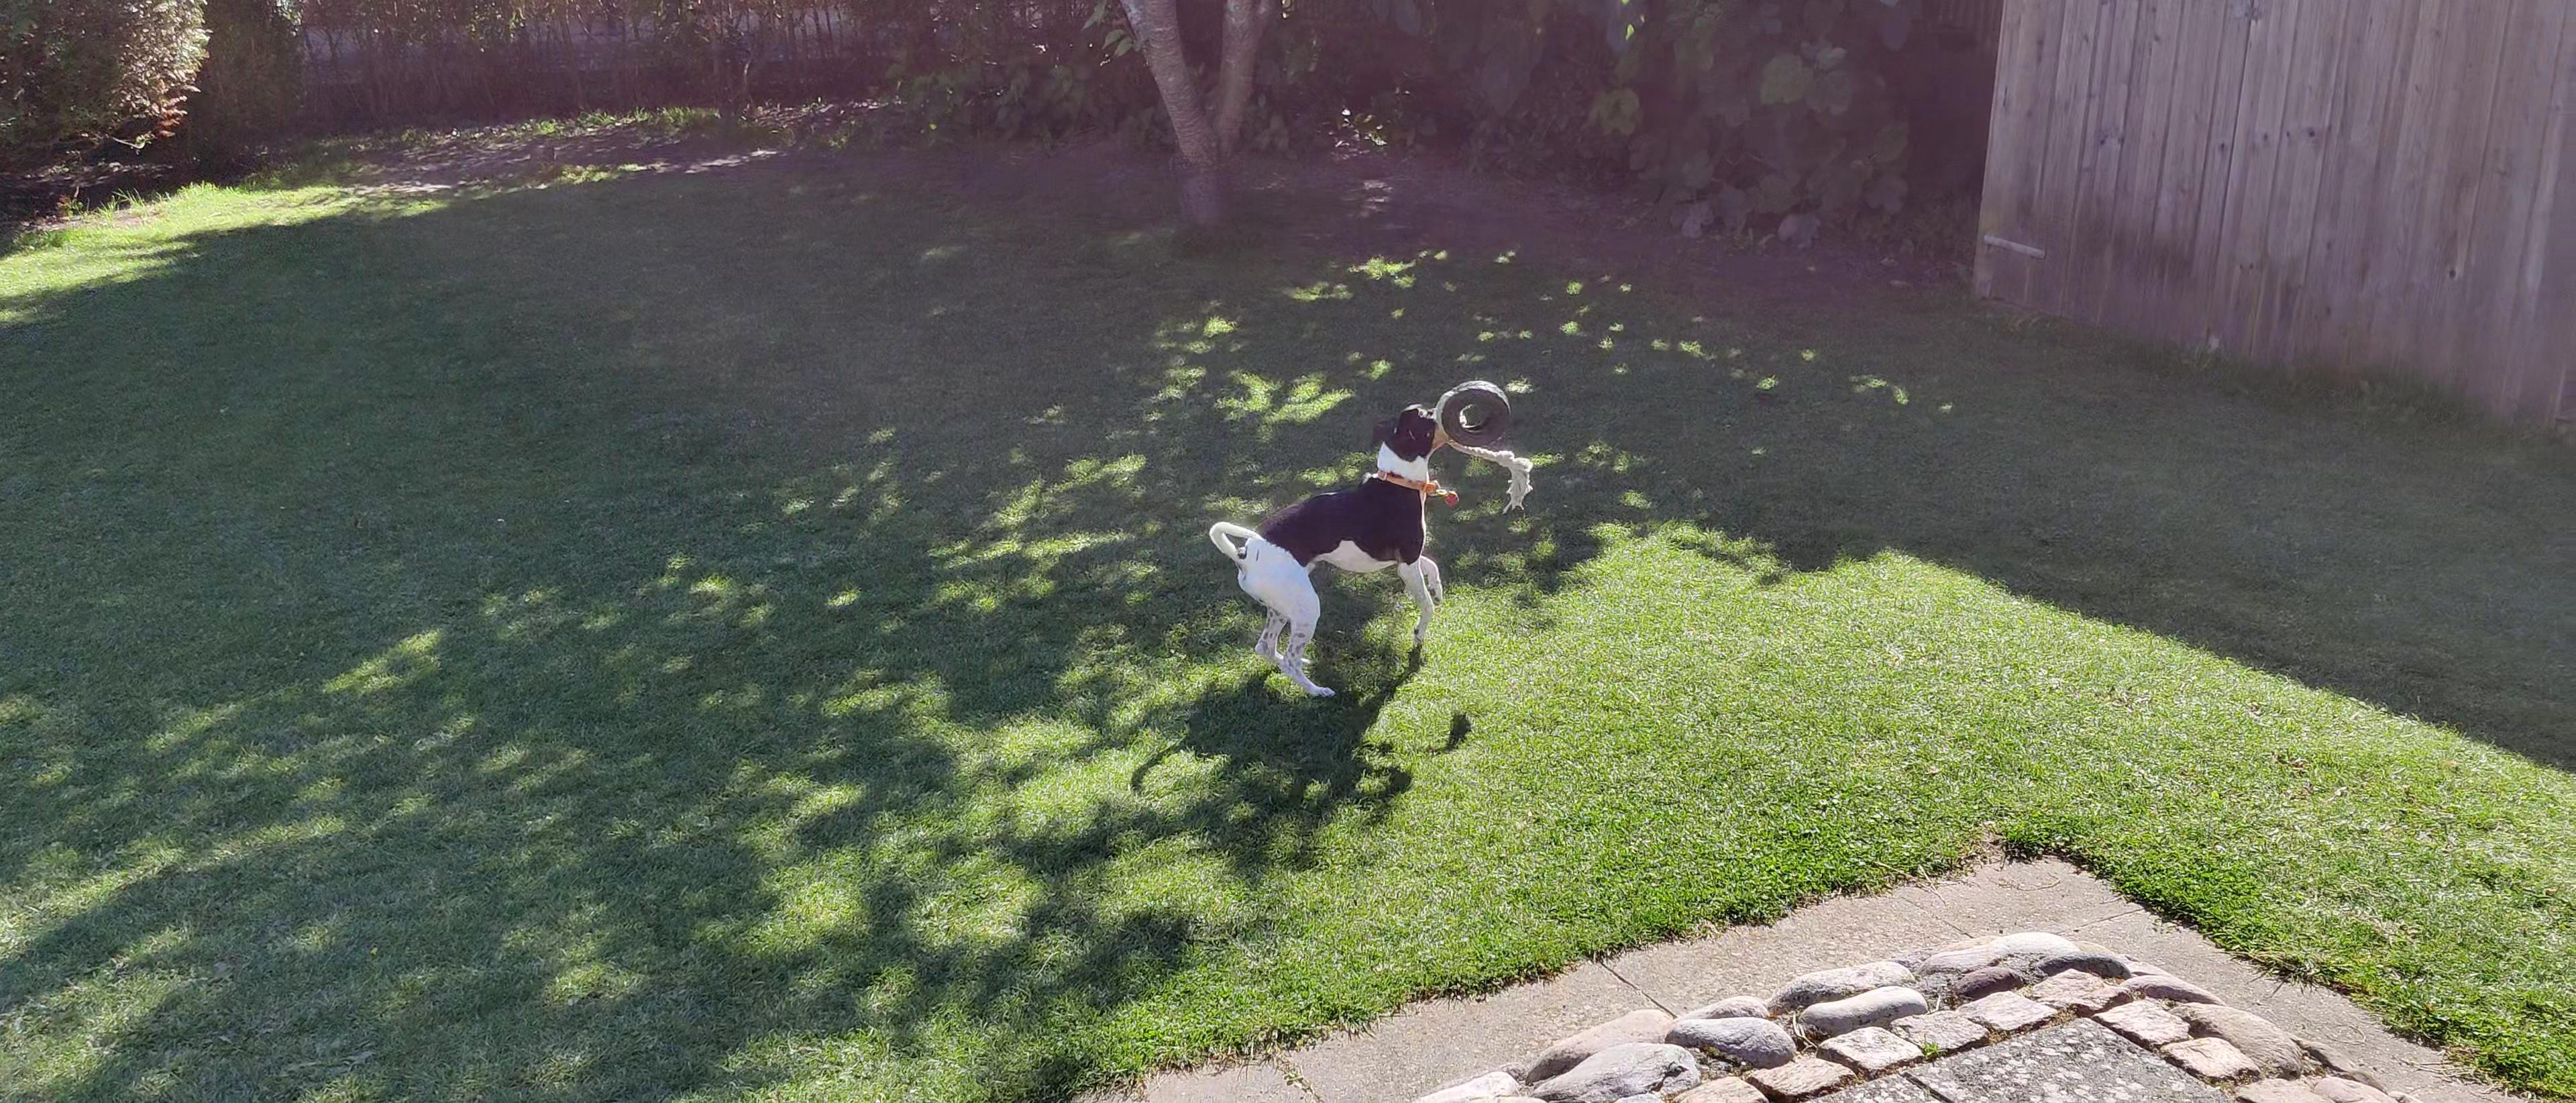Dog: (1206, 404, 1472, 694)
